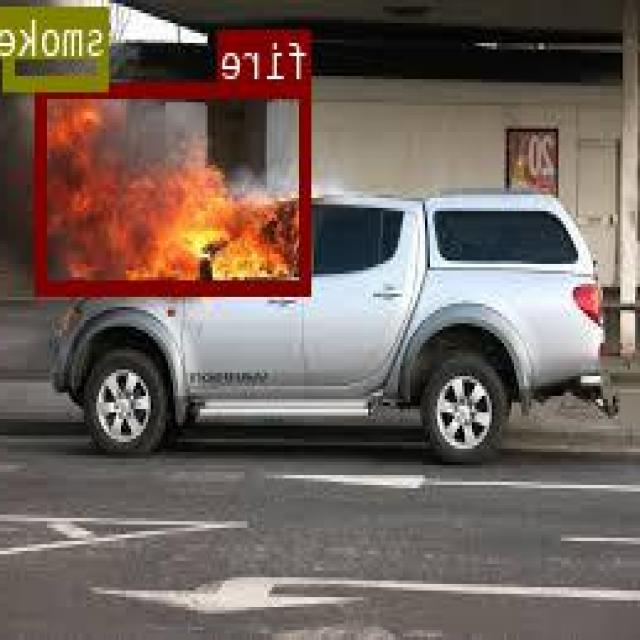fire: (38, 79, 313, 291)
smoke: (7, 5, 109, 88)
